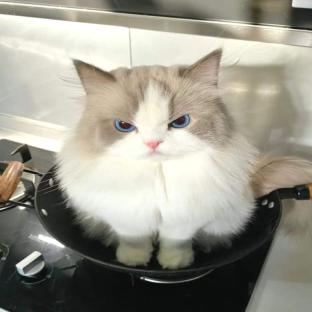Animal: (55, 49, 312, 270)
